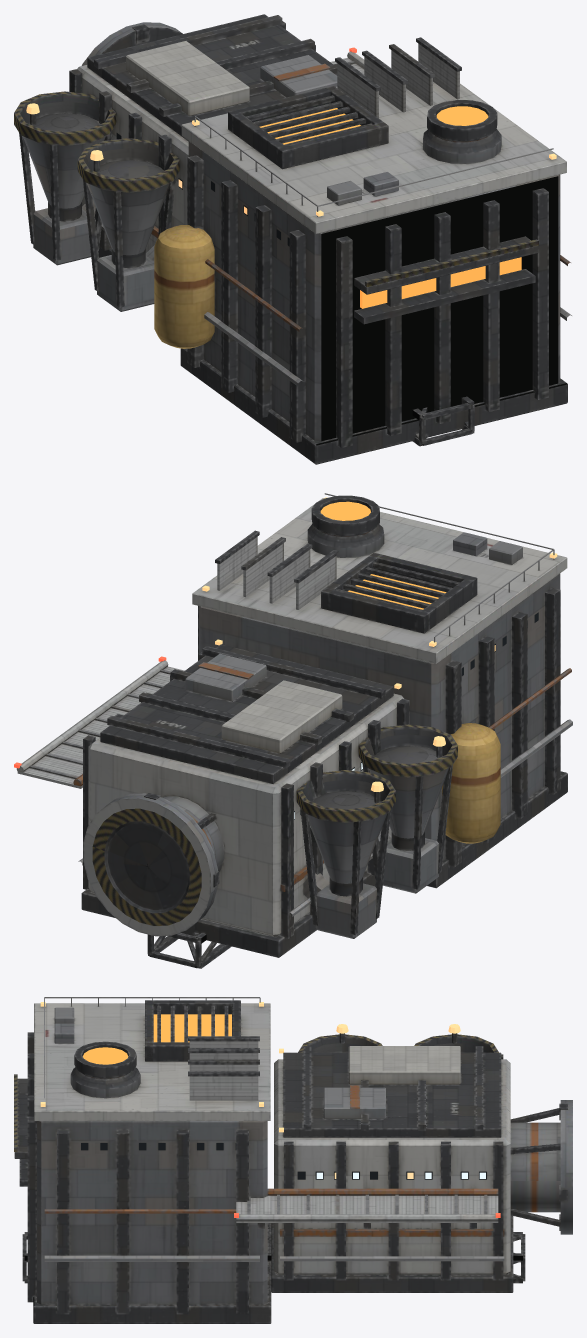
Rendered from addon_factory.glb.
3 renders of one model, top to bottom at view 1: azimuth 30°, elevation 25°; view 2: azimuth 150°, elevation 25°; view 3: azimuth 270°, elevation 25°, orthographic. The views are drawn at different scales.
Visible parts, largest first — view 1: addon_factory_hull, factory_furnace_glow, addon_factory_lights; view 2: addon_factory_hull, factory_furnace_glow, addon_factory_lights; view 3: addon_factory_hull, factory_furnace_glow, addon_factory_lights.
Part boxes in pixels (x1=…): addon_factory_hull: x1=14, y1=14, x2=571, y2=464; factory_furnace_glow: x1=259, y1=106, x2=521, y2=308; addon_factory_lights: x1=26, y1=47, x2=556, y2=246; addon_factory_hull: x1=16, y1=493, x2=572, y2=968; factory_furnace_glow: x1=320, y1=501, x2=446, y2=609; addon_factory_lights: x1=14, y1=497, x2=557, y2=819; addon_factory_hull: x1=14, y1=997, x2=572, y2=1323; factory_furnace_glow: x1=83, y1=1014, x2=231, y2=1064; addon_factory_lights: x1=40, y1=1002, x2=500, y2=1217.
Size of the model in its own units: 29.3 by 21.65 by 44.85.
Materials: 8 (1 with a texture image).
